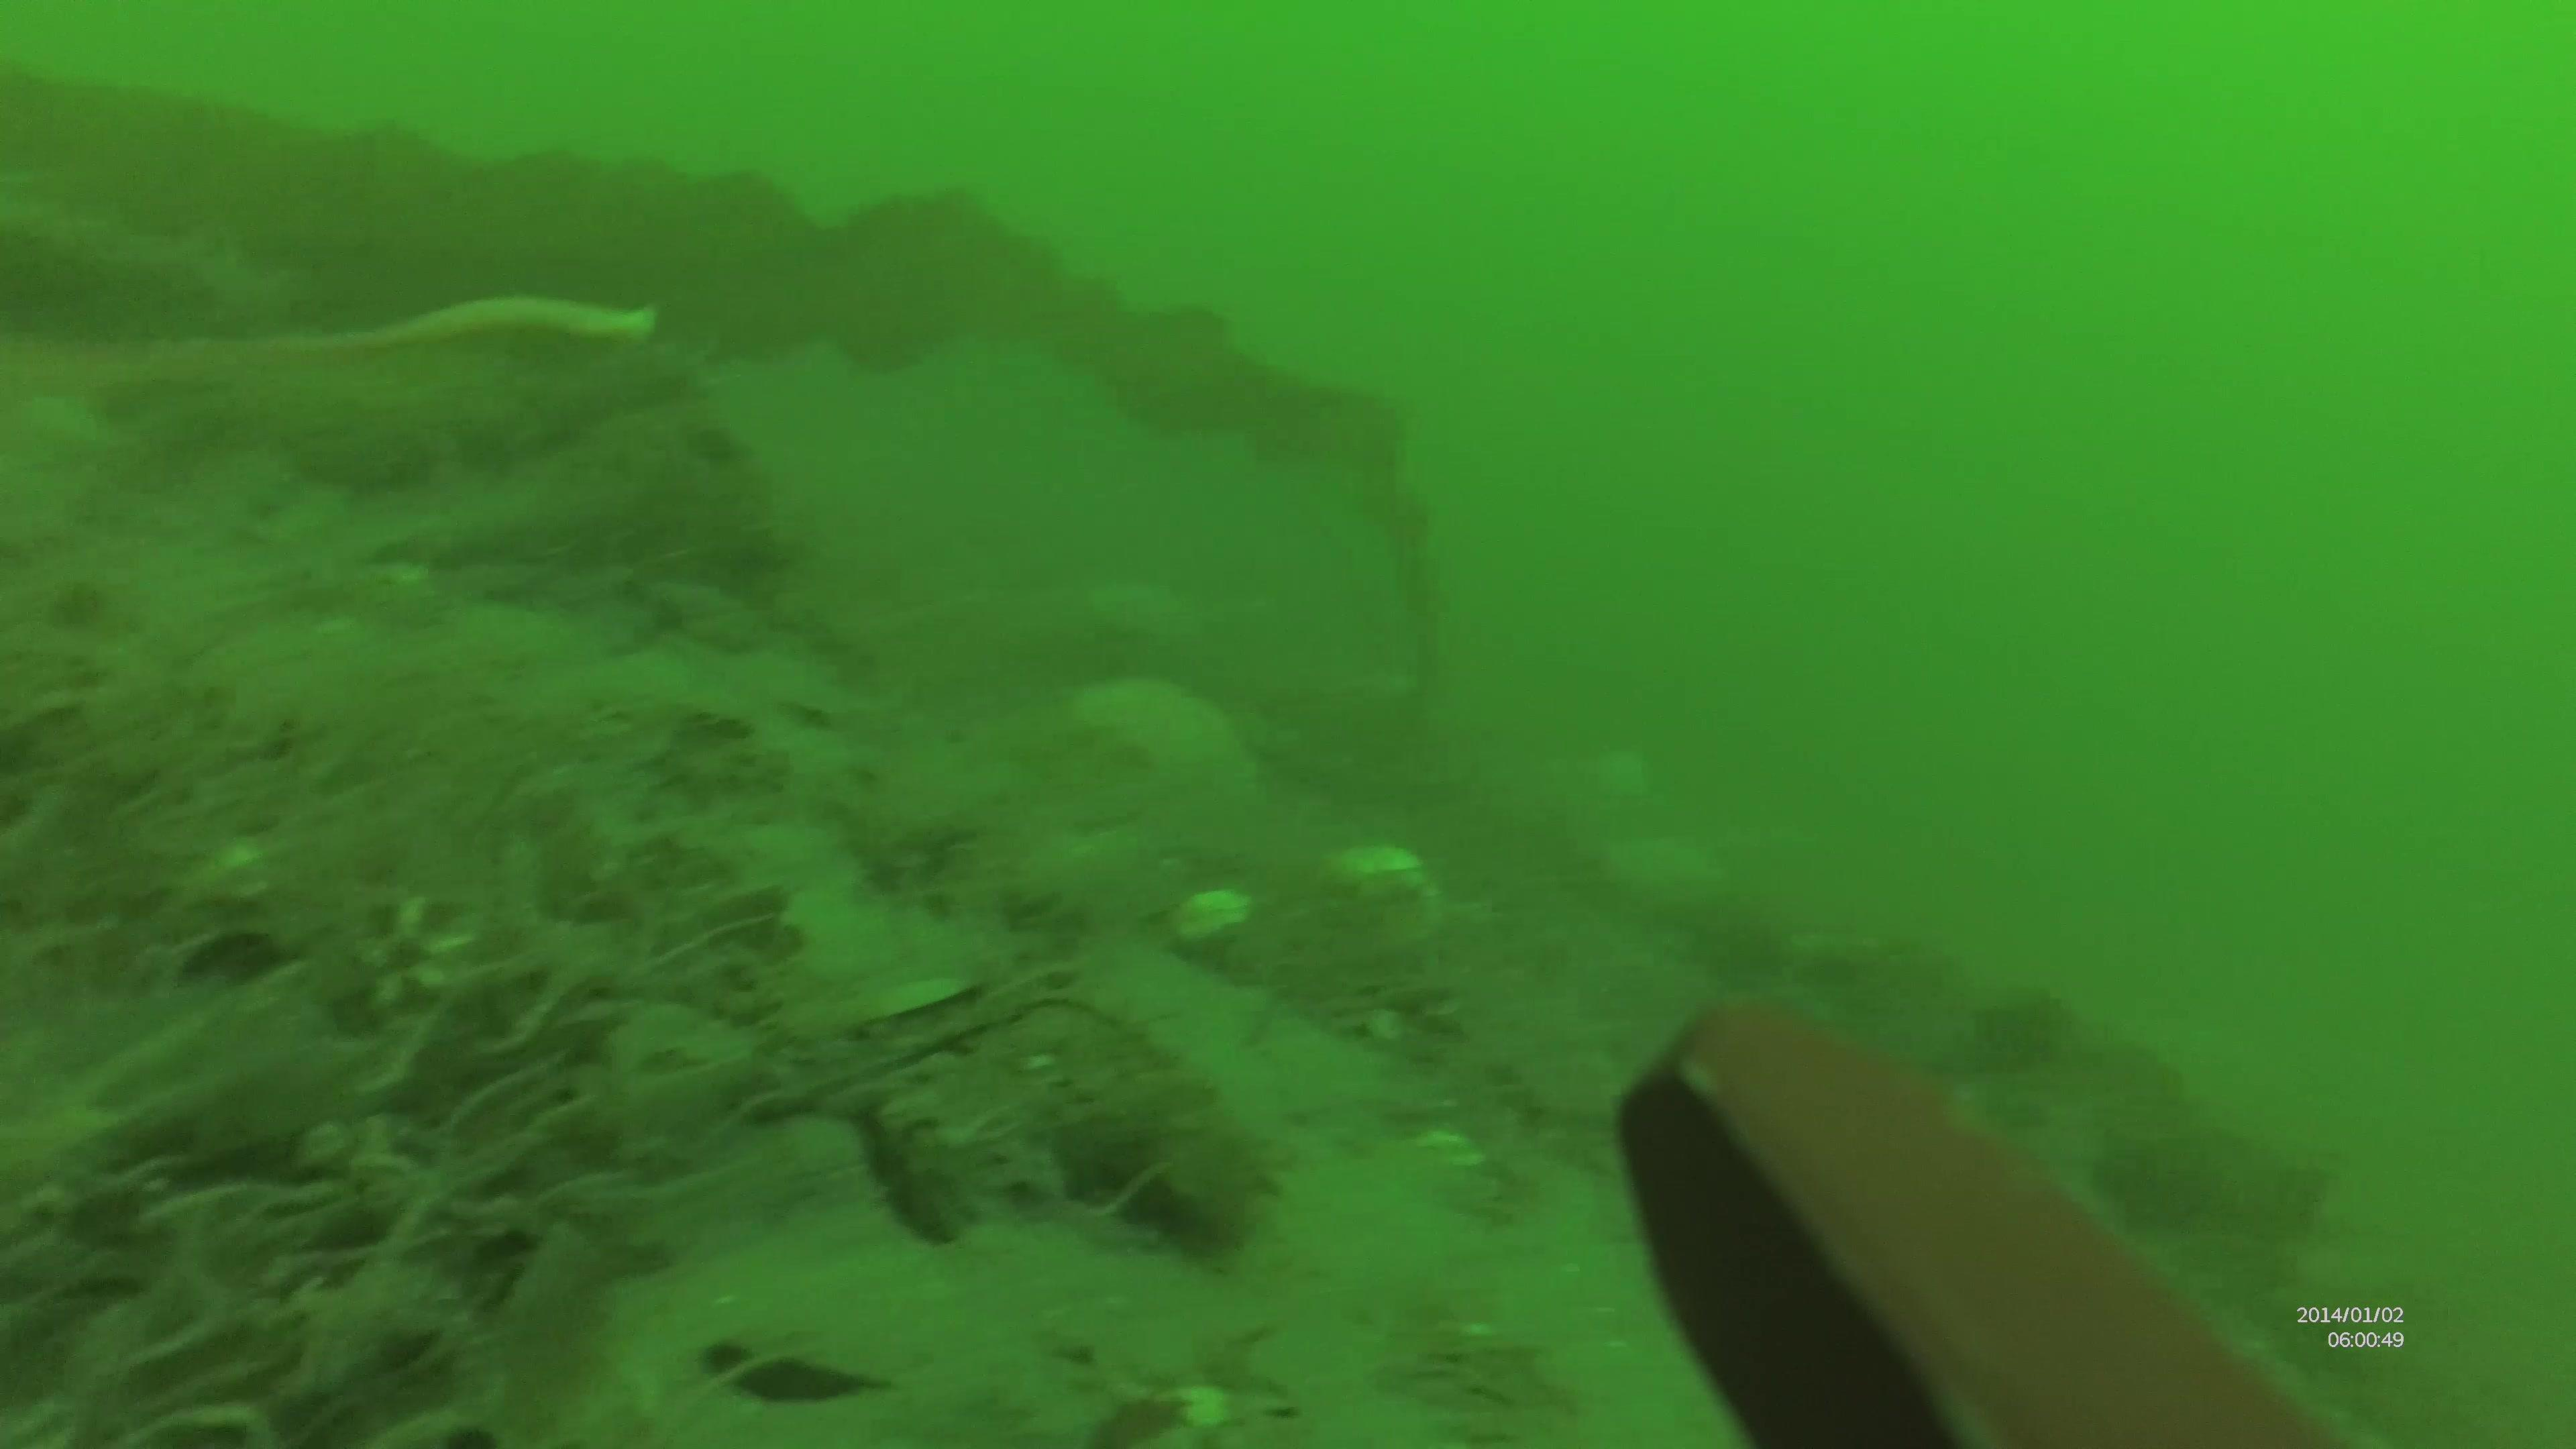scallop: (1612, 832, 1723, 918), (1162, 883, 1254, 950), (1334, 842, 1421, 906)
starfish: (1069, 678, 1258, 796)
